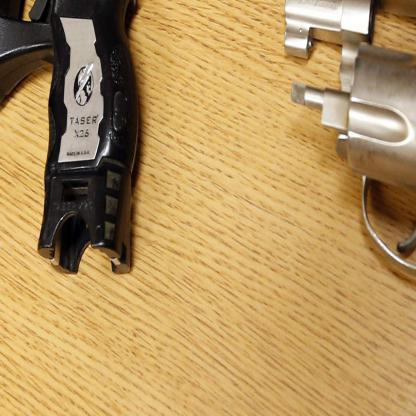gun: (277, 0, 415, 415)
